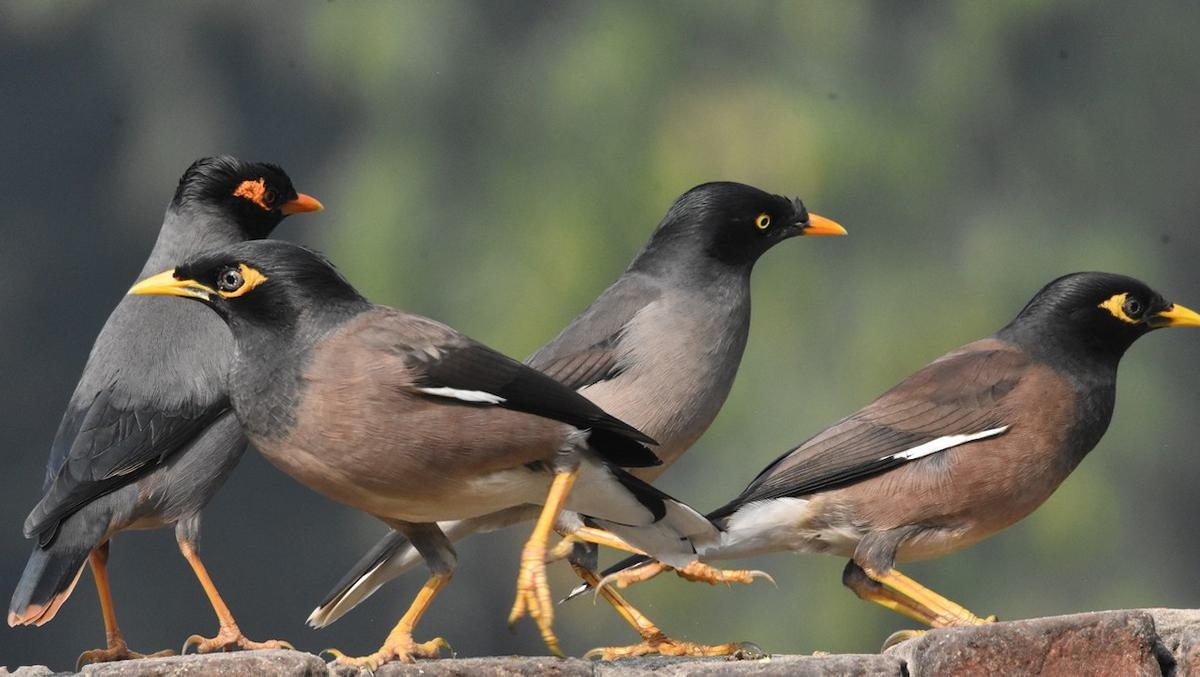myna: (111, 251, 633, 645), (773, 269, 1195, 668), (556, 162, 854, 425)
